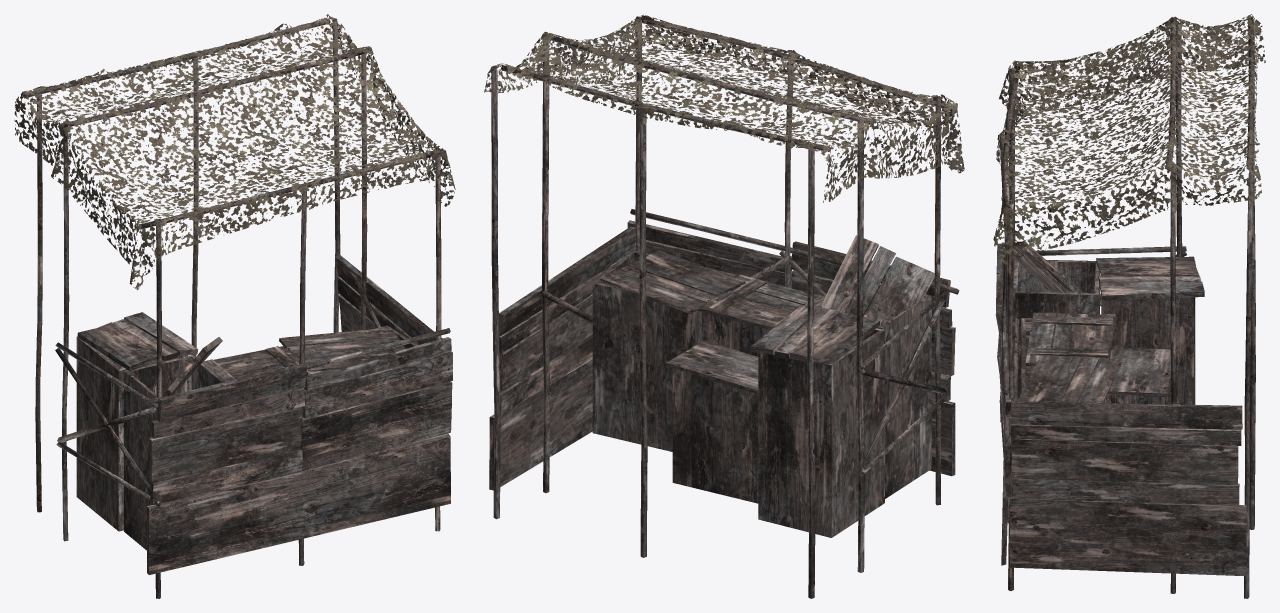
The model's file is SM_stall_2.FBX.
3 views of the same model, side by side, from view 1: azimuth 30°, elevation 25°; view 2: azimuth 150°, elevation 25°; view 3: azimuth 270°, elevation 25° (orthographic). The views are drawn at different scales.
Visible parts, largest first — view 1: SM_stall_2; view 2: SM_stall_2; view 3: SM_stall_2.
Part boxes in pixels (bbox=[...]): SM_stall_2: bbox=[14, 14, 455, 598]; SM_stall_2: bbox=[484, 14, 964, 598]; SM_stall_2: bbox=[993, 14, 1265, 598].
Bounding box in the file's own units: 231 × 287 × 165.
